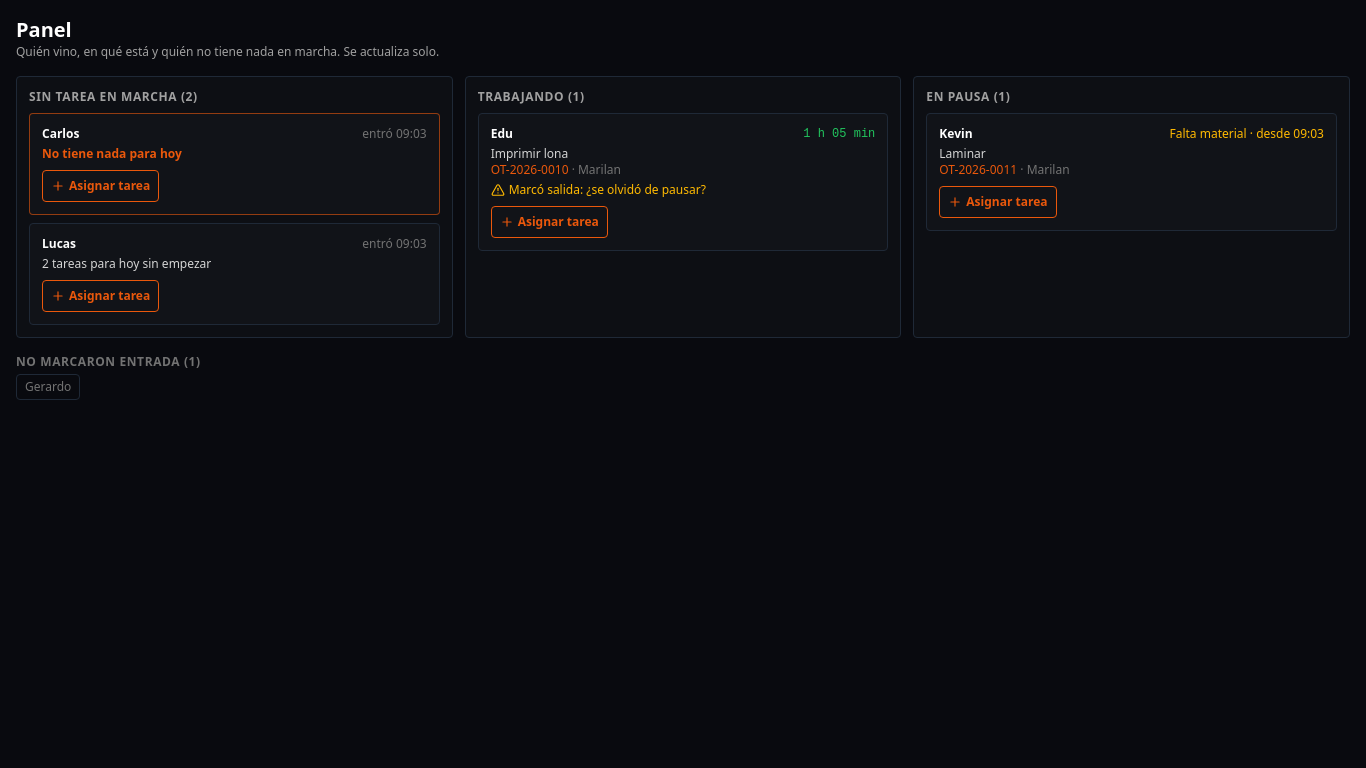
Loop 14 — Panel de Gerardo (pantalla) › hoja cerrada: avisa y no deja asignar
Click the button with aria-label "Asignar tarea a Gerardo".
click(48, 387)  # box [16,374,80,400]
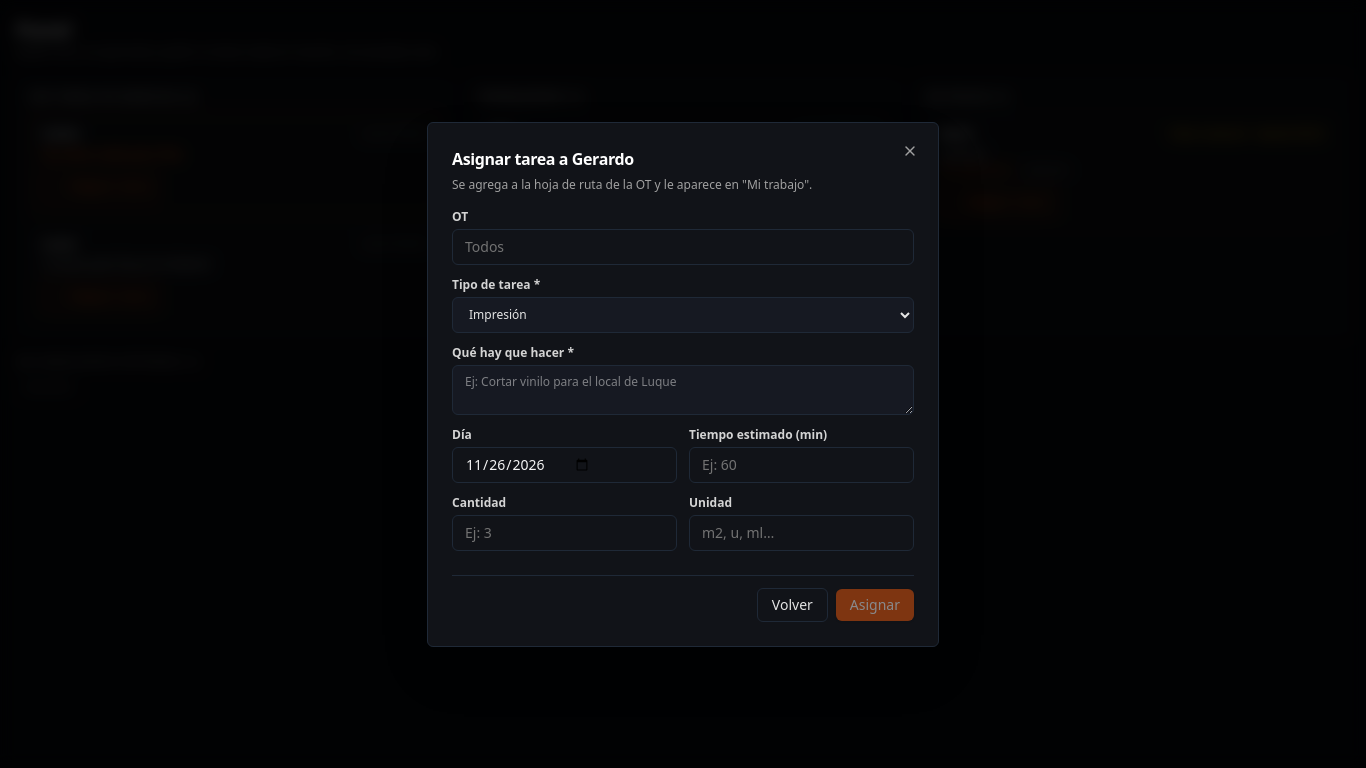
Type "Casetas" into the field named "OT".
click(683, 246); type("Casetas")  # box [452,228,914,264]
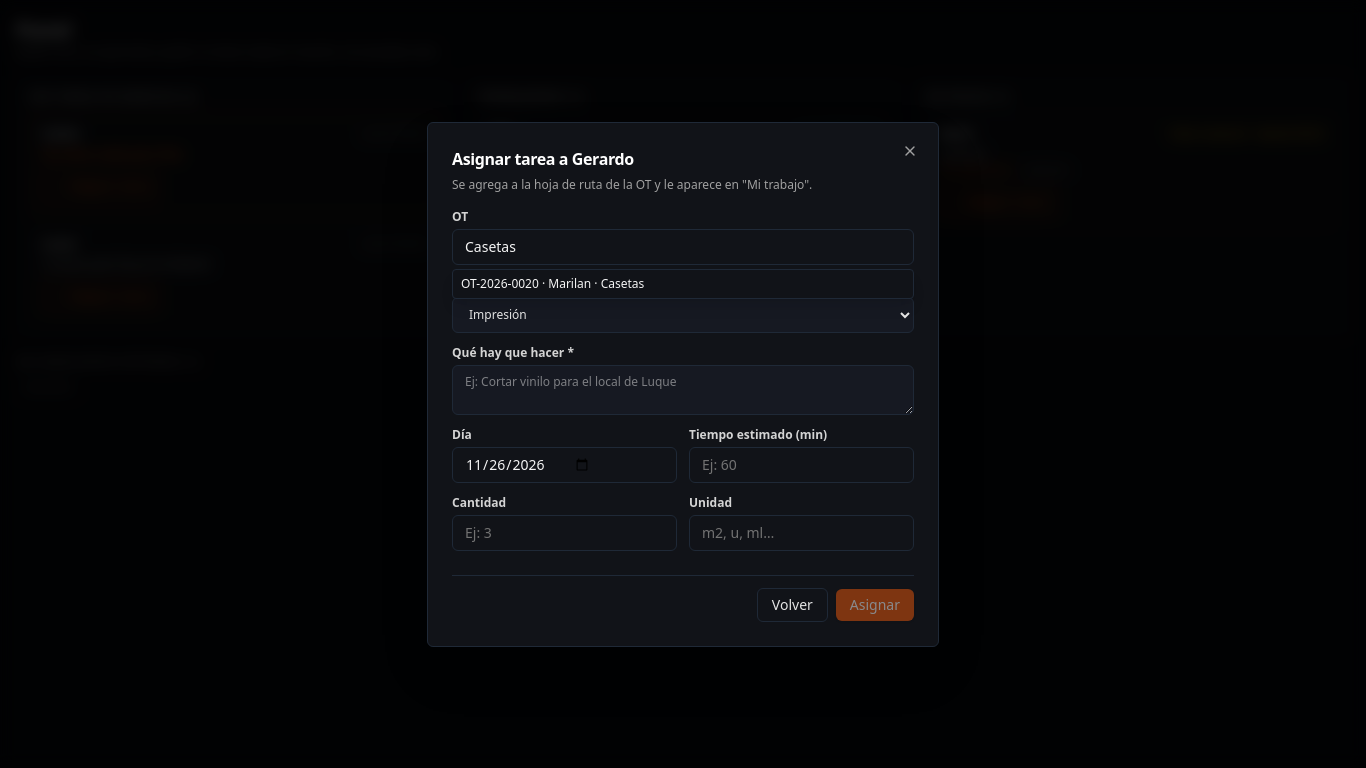
Click the button "OT-2026-0020 · Marilan · Casetas".
click(553, 283)  # box [453,270,913,298]
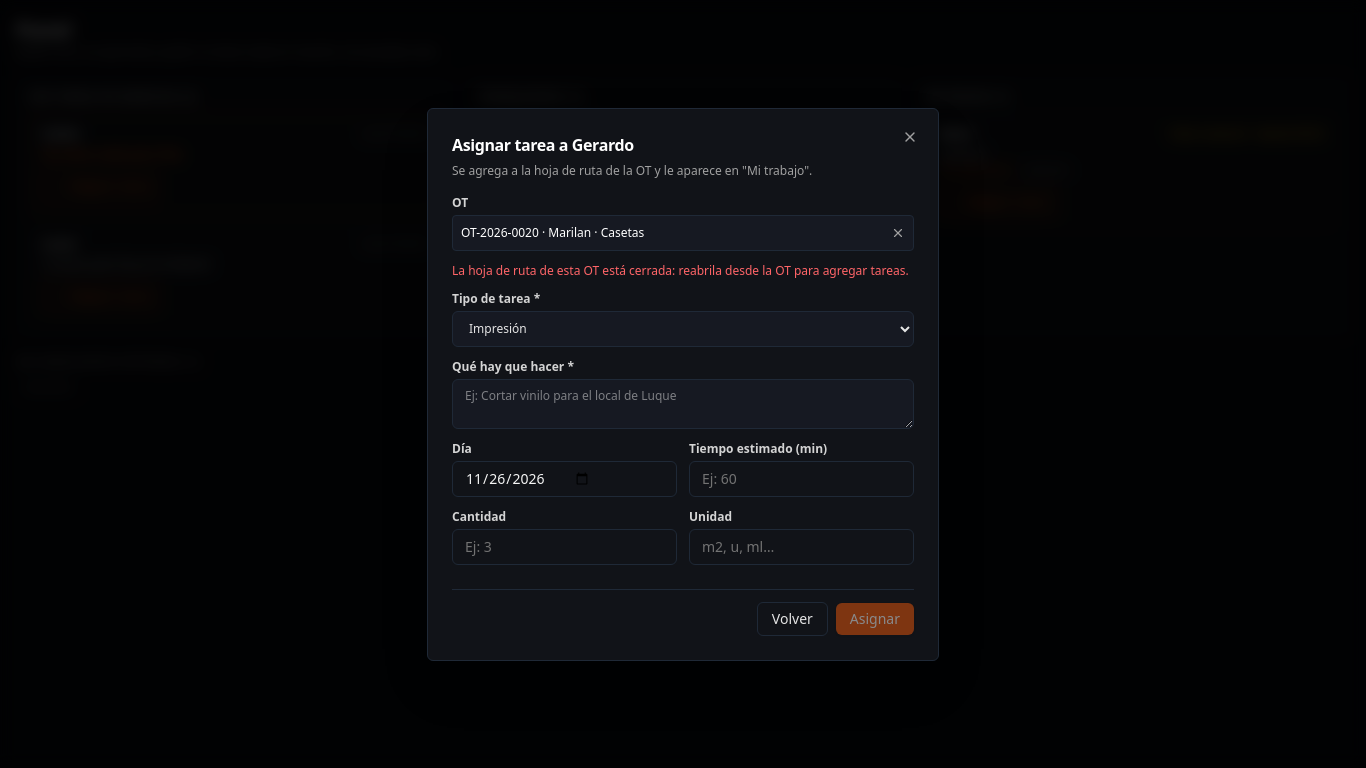
Check: the button "Asignar" is disabled, box [836,602,914,634]
Check: the text "está cerrada" is shown, box [452,262,909,278]
